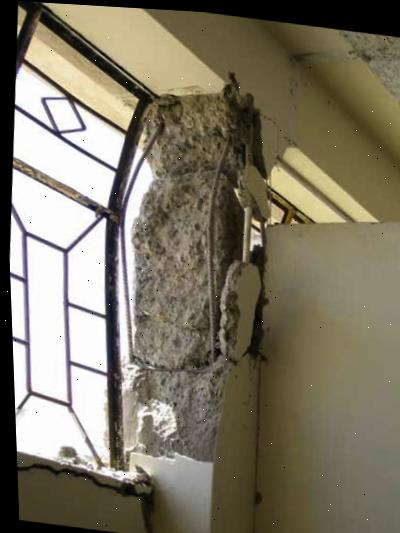exposed_rebar: (206, 135, 230, 360)
spalling: (121, 72, 268, 462)
